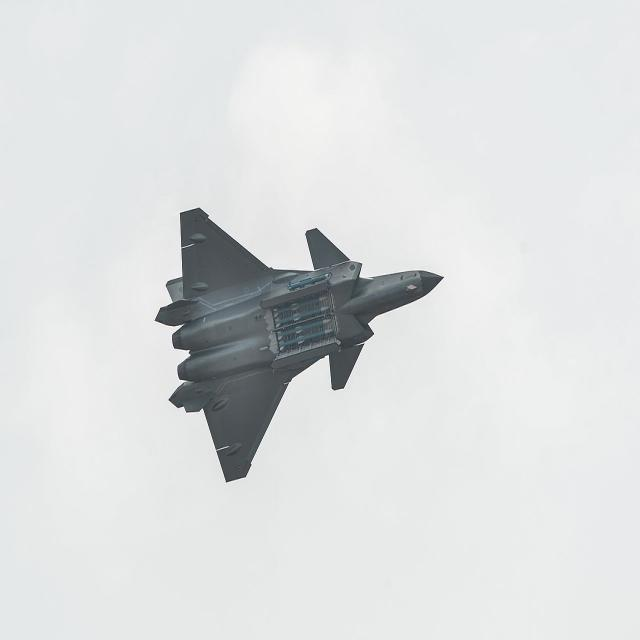MIL_Plane: (154, 207, 444, 483)
